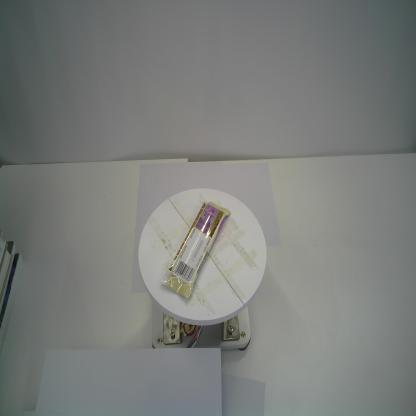Chocolate: (157, 199, 232, 300)
